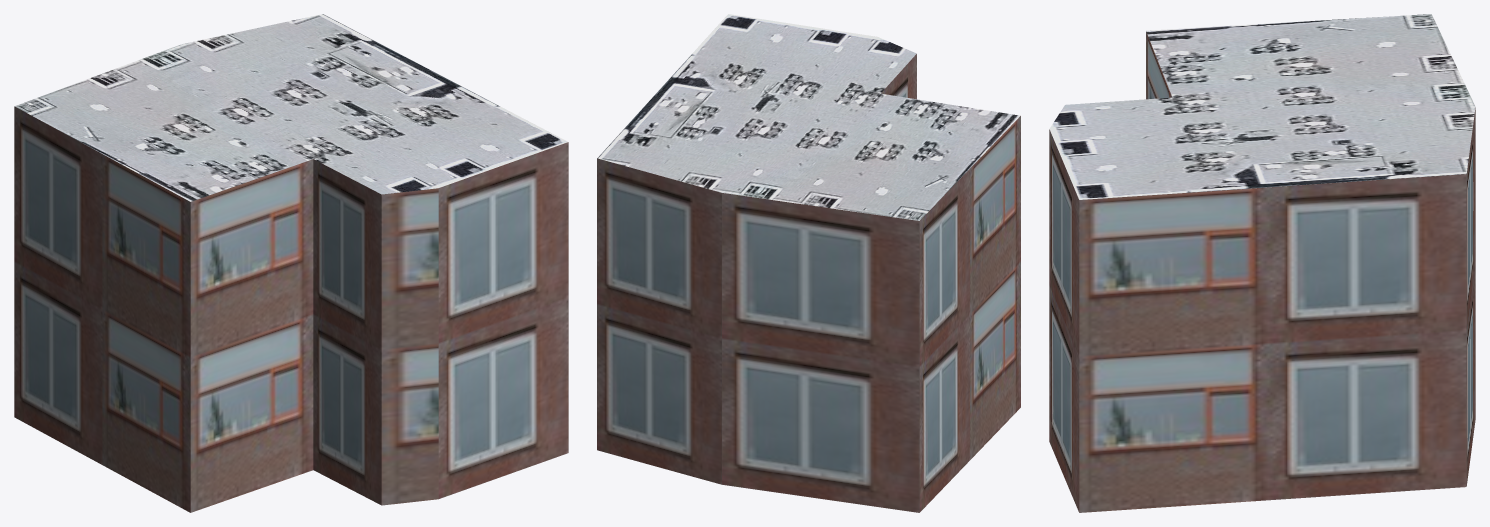
The model's file is ResTex__2647.fbx.
The picture shows the model from 3 angles, left to right: view 1: azimuth 30°, elevation 25°; view 2: azimuth 150°, elevation 25°; view 3: azimuth 270°, elevation 25°; orthographic projection. The views are drawn at different scales.
Visible parts, largest first — view 1: CityEngineMaterial_19_m, CityEngineMaterial_8_m; view 2: CityEngineMaterial_19_m, CityEngineMaterial_8_m; view 3: CityEngineMaterial_19_m, CityEngineMaterial_8_m.
Boxes of the visible parts, box(x1,y1,x2,y2) form: CityEngineMaterial_19_m: box(14, 106, 568, 512); CityEngineMaterial_8_m: box(15, 14, 567, 201); CityEngineMaterial_19_m: box(597, 54, 1020, 512); CityEngineMaterial_8_m: box(597, 14, 1020, 220); CityEngineMaterial_19_m: box(1049, 31, 1475, 512); CityEngineMaterial_8_m: box(1049, 14, 1475, 199).
Size of the model in its own units: 7.65 by 6 by 7.41.
Materials: 2 (2 with a texture image).
